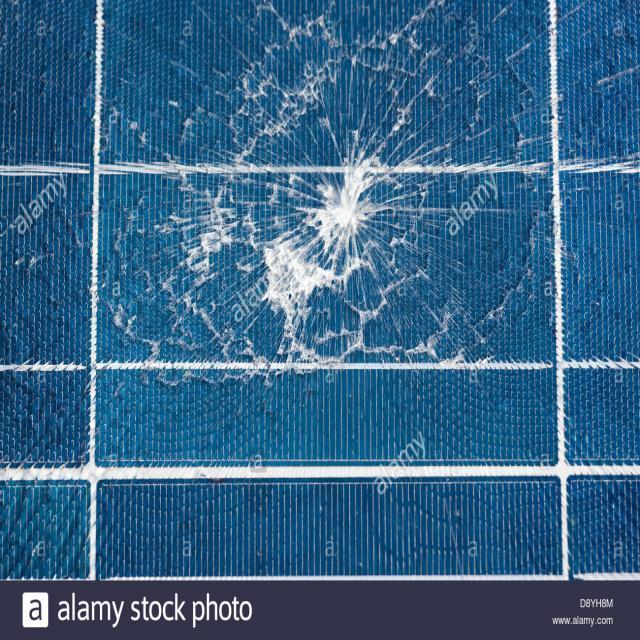Physical-damage: (223, 61, 453, 381), (473, 36, 640, 384), (83, 110, 251, 394)
